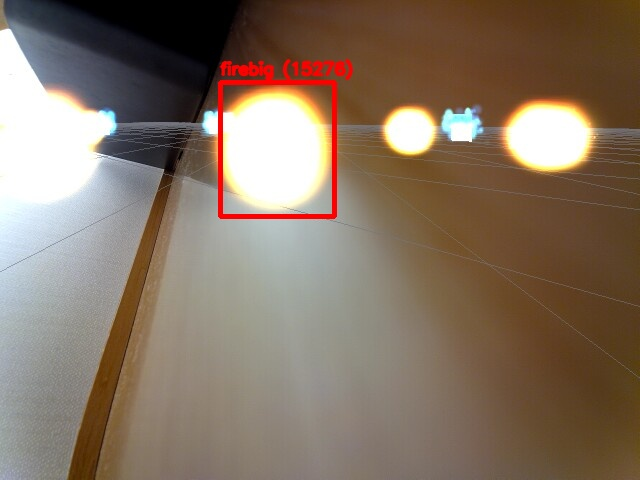firebig: (220, 82, 334, 216)
